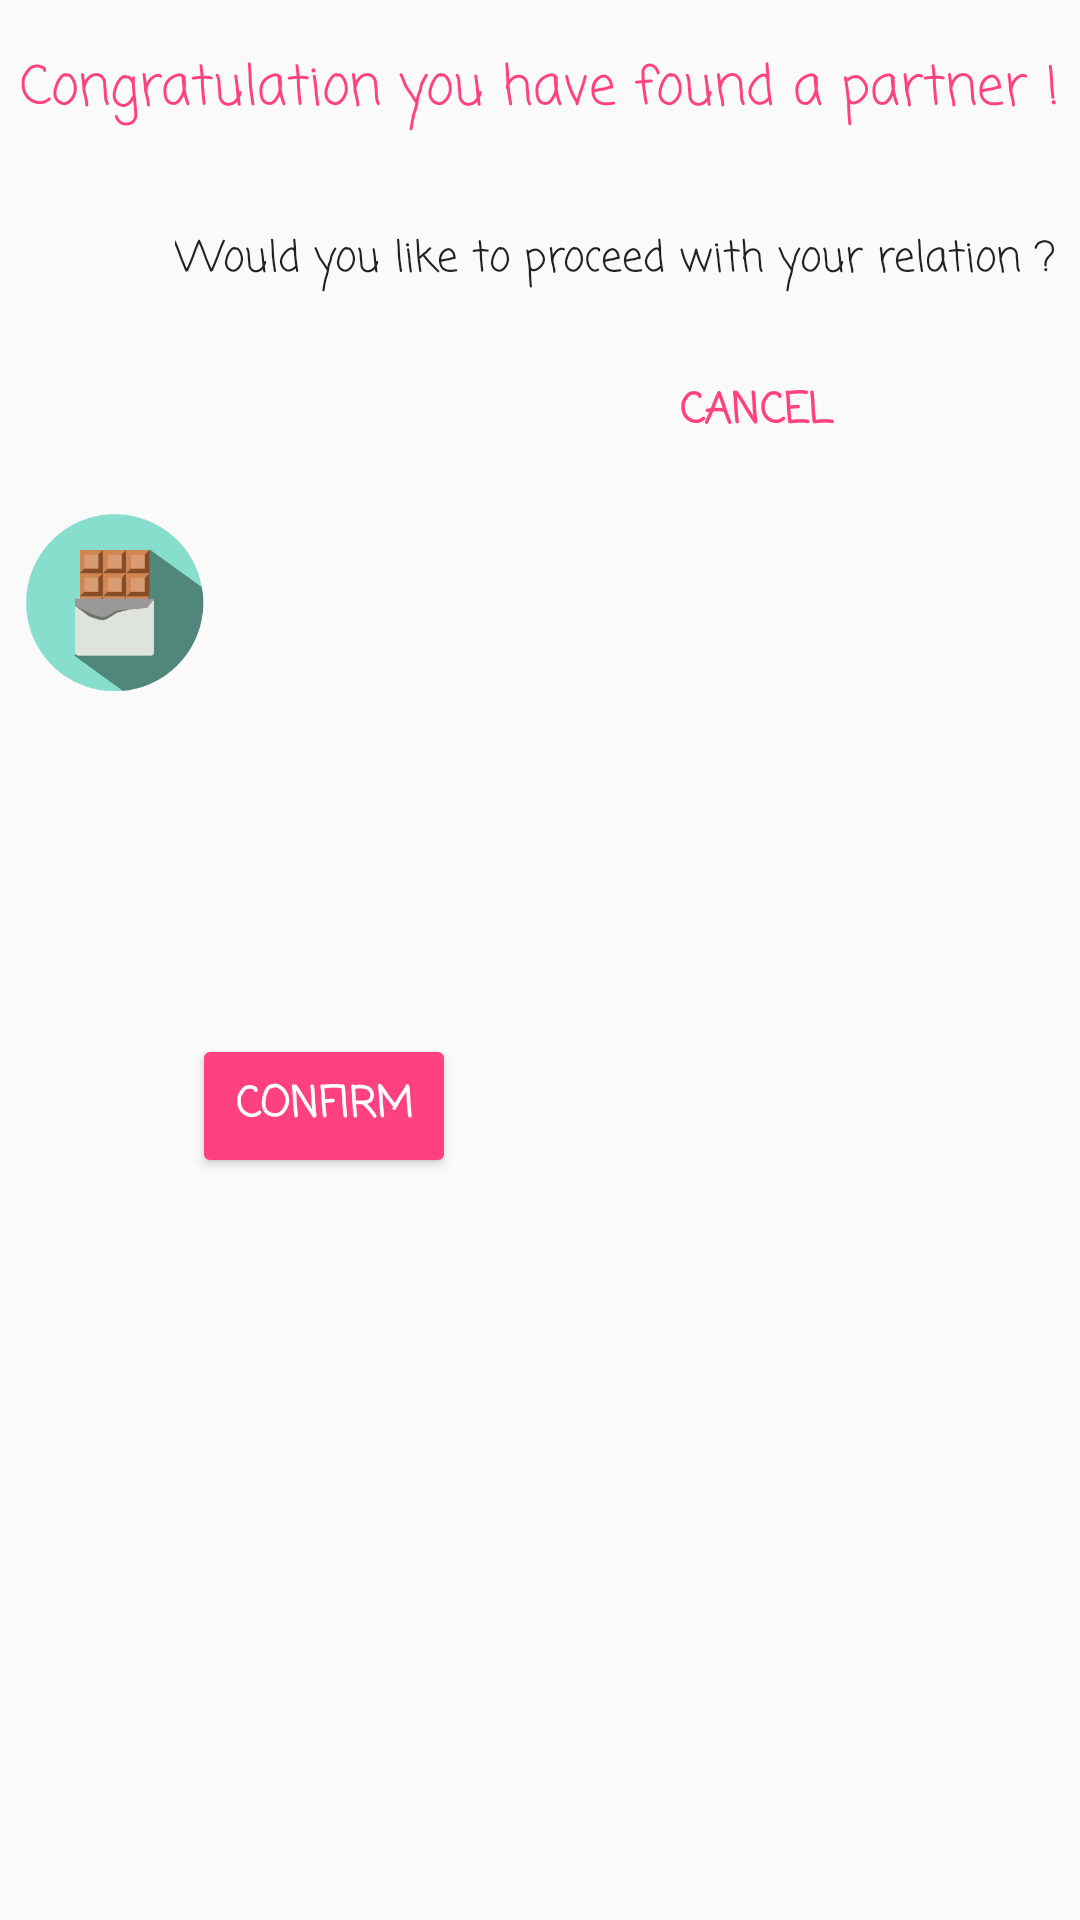

Where icons sit on this 1080px×1920px app screen, as (x1, y1, x2, y2):
chocolate: (26, 514, 204, 691)
